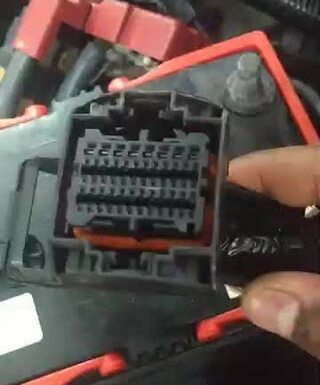connector: (48, 89, 229, 295)
